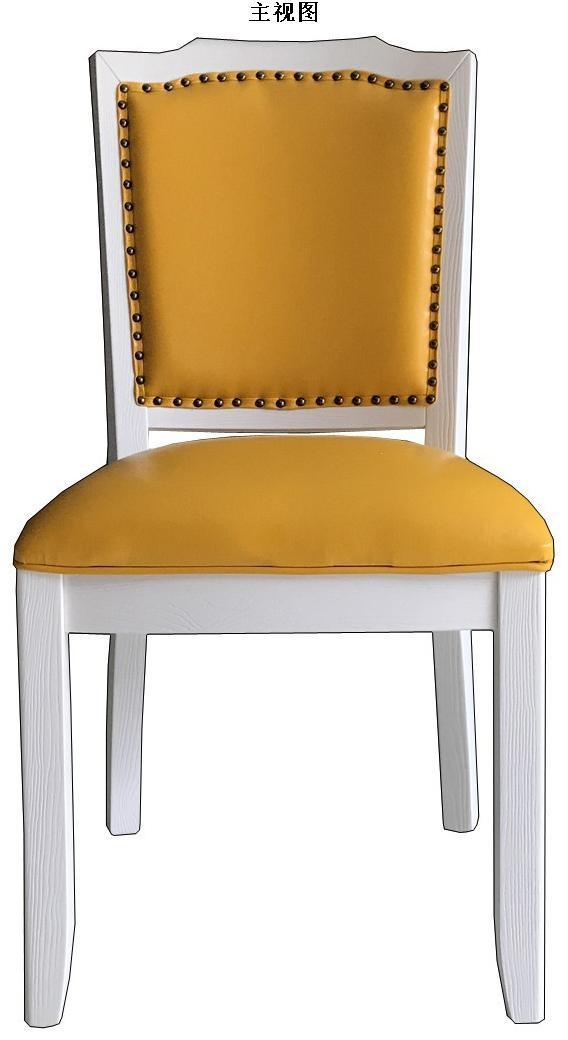obstacle: (15, 37, 552, 1026)
